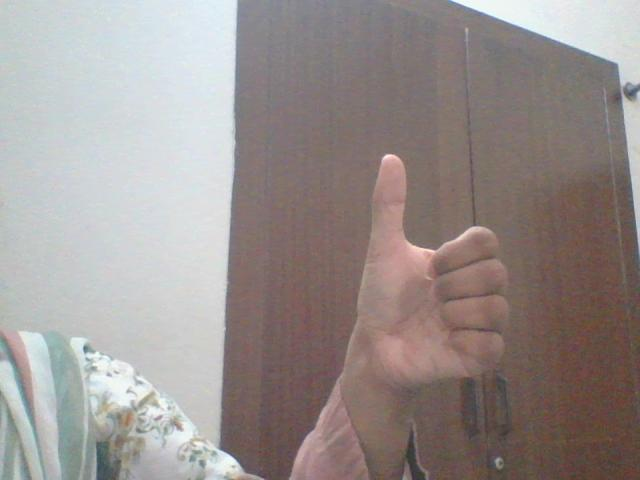thumbs-up: (346, 149, 514, 383)
